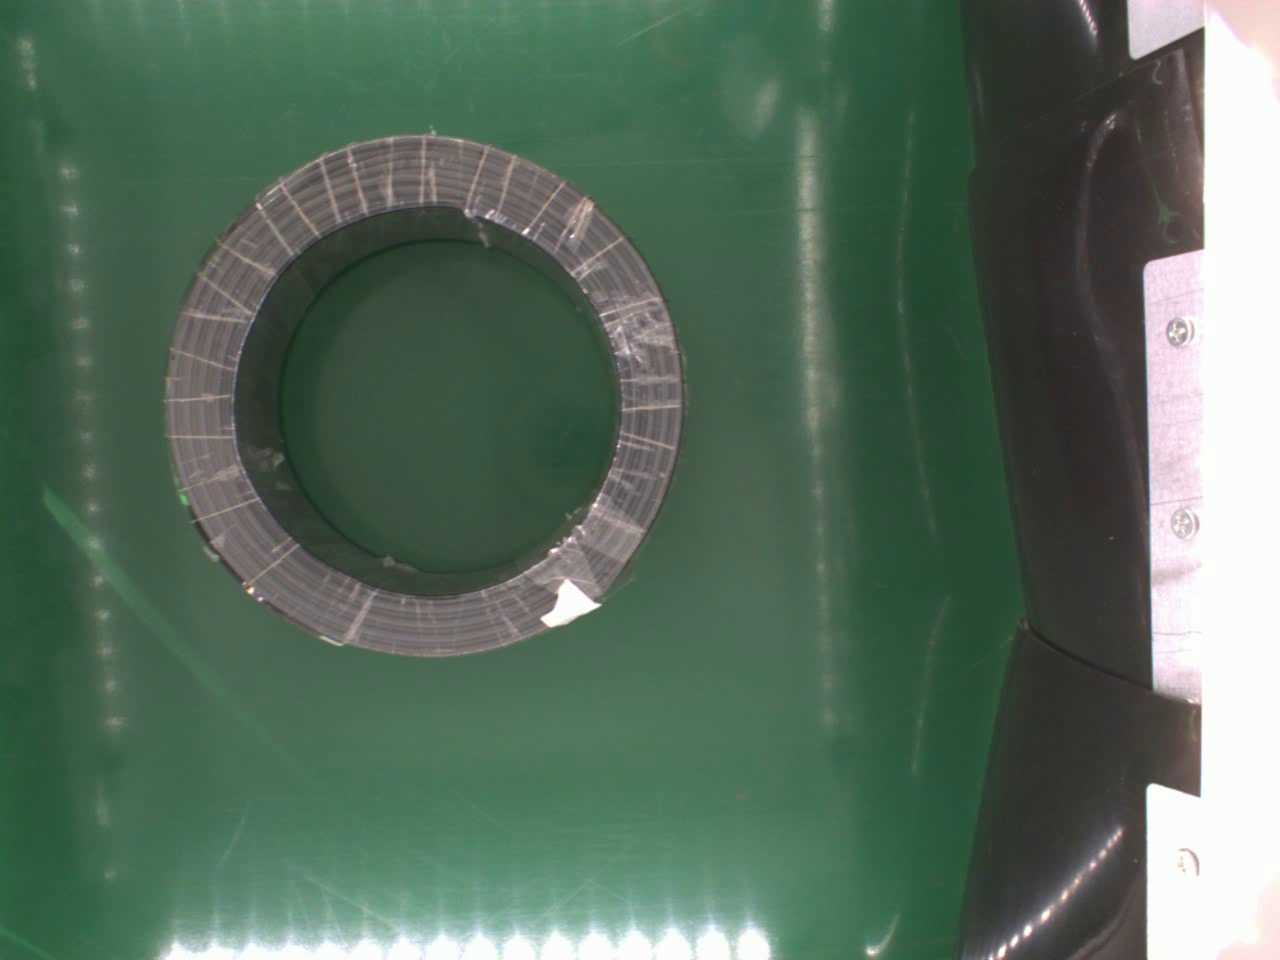black: (158, 128, 689, 659)
